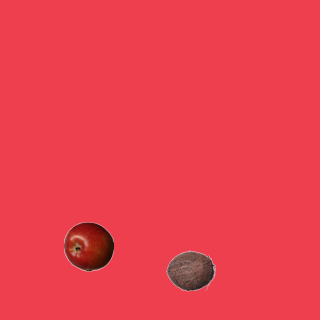Apple Braeburn: (63, 221, 113, 271)
Cocos: (165, 245, 215, 295)
